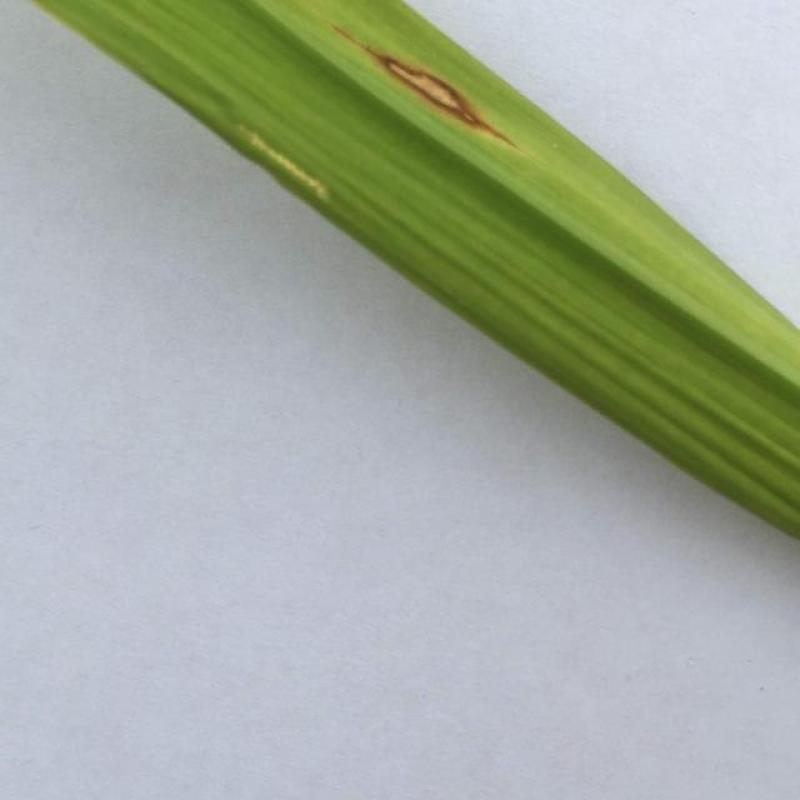Leaf_Blast: (319, 13, 554, 212)
